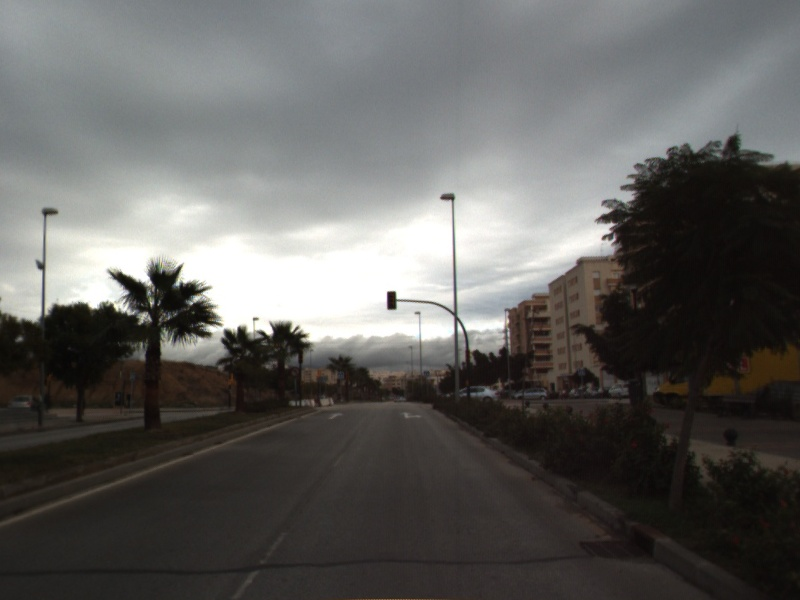STRAIGHT: (326, 410, 345, 421)
STRAIGHT_RIGHT: (398, 409, 424, 420)
